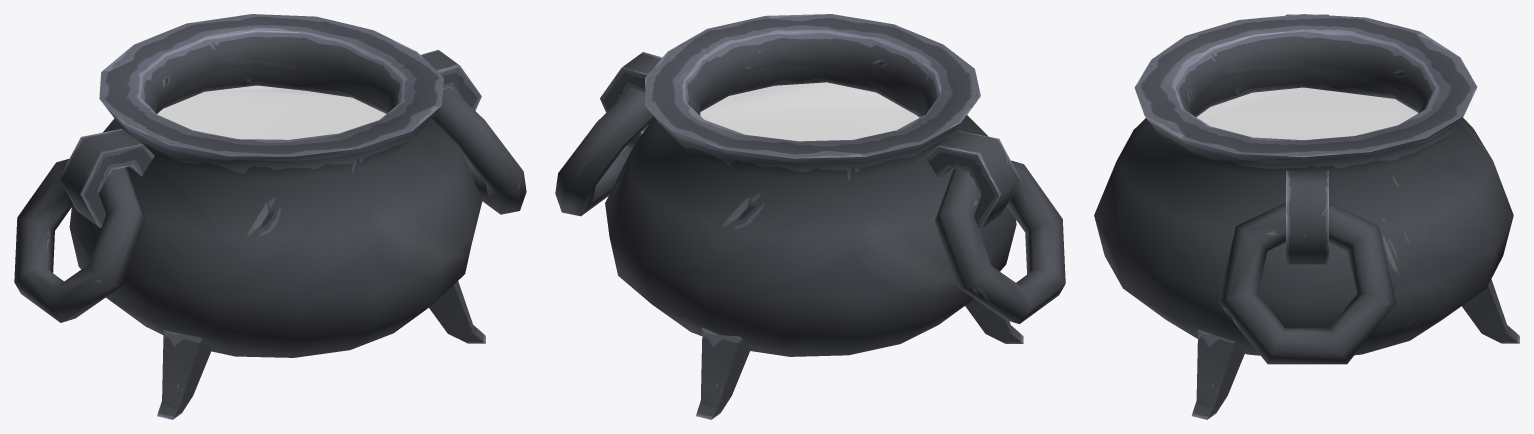
File: SM_PROP_cookingpot_big.fbx
The picture shows the model from 3 angles, left to right: view 1: azimuth 30°, elevation 25°; view 2: azimuth 150°, elevation 25°; view 3: azimuth 270°, elevation 25°; orthographic projection.
Parts seen in each view (by area): view 1: SM_PROP_cookingpot_big; view 2: SM_PROP_cookingpot_big; view 3: SM_PROP_cookingpot_big.
Boxes of the visible parts, <box> form: SM_PROP_cookingpot_big: <box>14,14,526,419</box>; SM_PROP_cookingpot_big: <box>555,14,1065,419</box>; SM_PROP_cookingpot_big: <box>1094,14,1519,419</box>.
Bounding box in the file's own units: 161 × 82.17 × 125.
